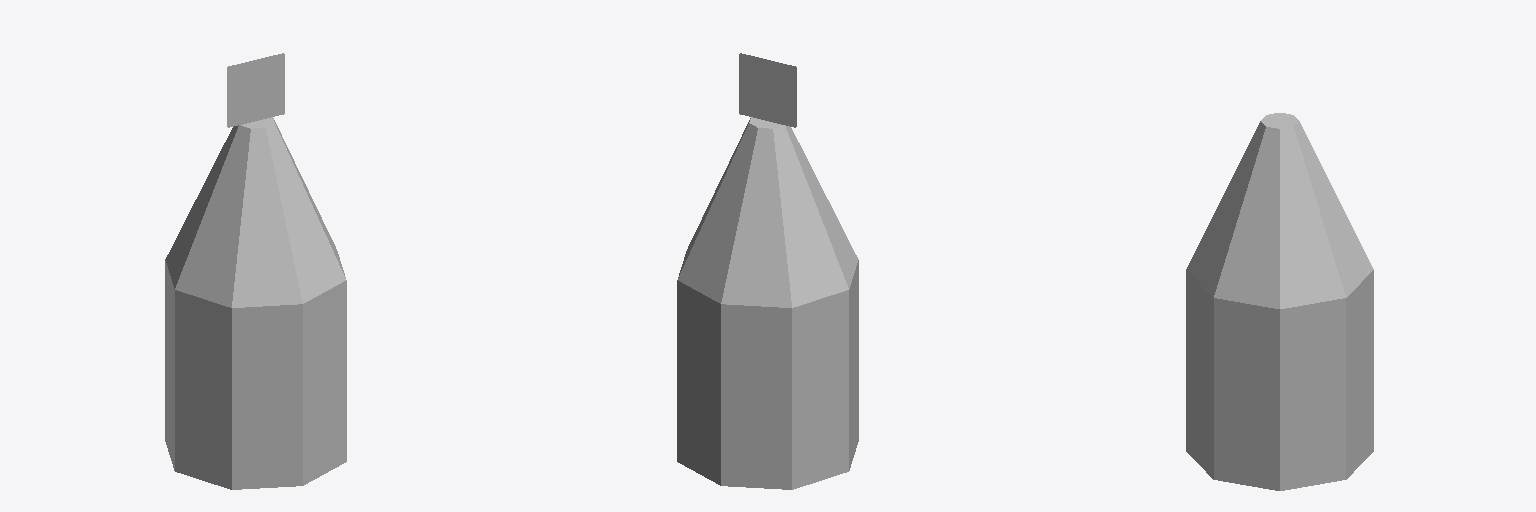
File: lantern.obj
3 views of the same model, side by side, from view 1: azimuth 30°, elevation 25°; view 2: azimuth 150°, elevation 25°; view 3: azimuth 270°, elevation 25° (orthographic).
Parts seen in each view (by area): view 1: Cylinder.001; view 2: Cylinder.001; view 3: Cylinder.001.
Part boxes in pixels (x1,y1,x2,y2): Cylinder.001: (165,53,346,489); Cylinder.001: (677,53,858,489); Cylinder.001: (1186,113,1373,490).
Size of the model in its own units: 0.2 by 0.4605 by 0.2.